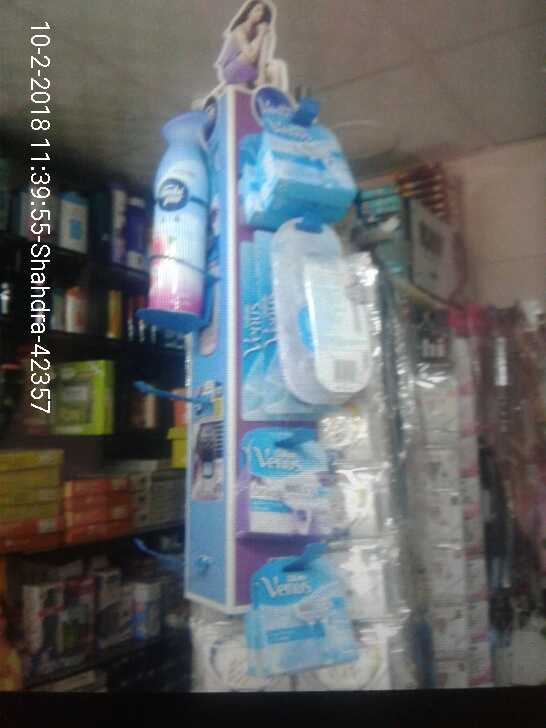beauty: (235, 409, 335, 550), (246, 561, 356, 674)
home: (132, 91, 226, 320)
